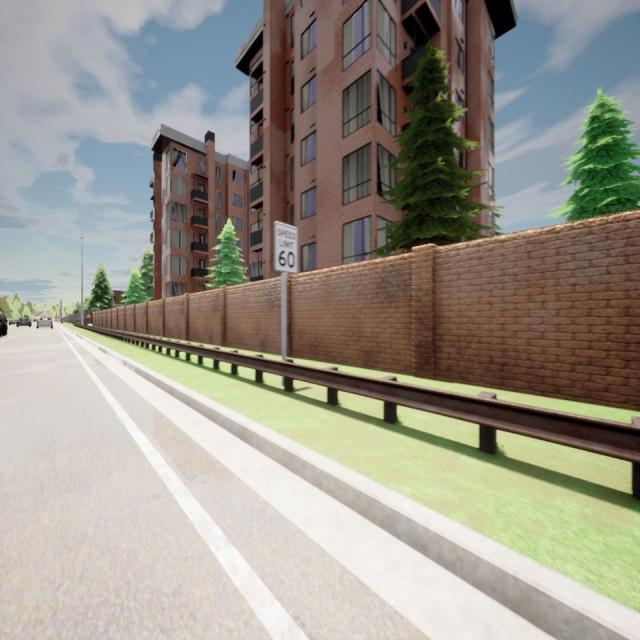Traffic_Signs: (273, 221, 300, 273)
Vehicle: (36, 316, 54, 329), (0, 307, 7, 339), (16, 316, 32, 328), (8, 320, 15, 325), (33, 318, 37, 322)
